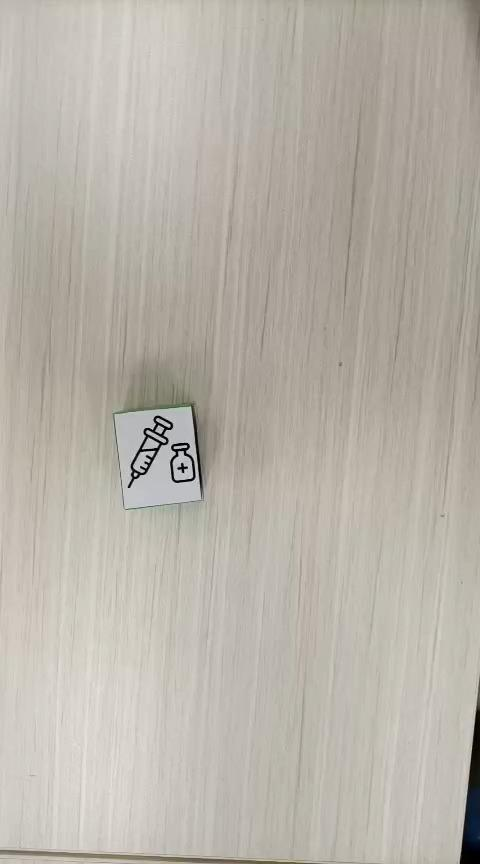antiseptic cream: (114, 403, 208, 508)
